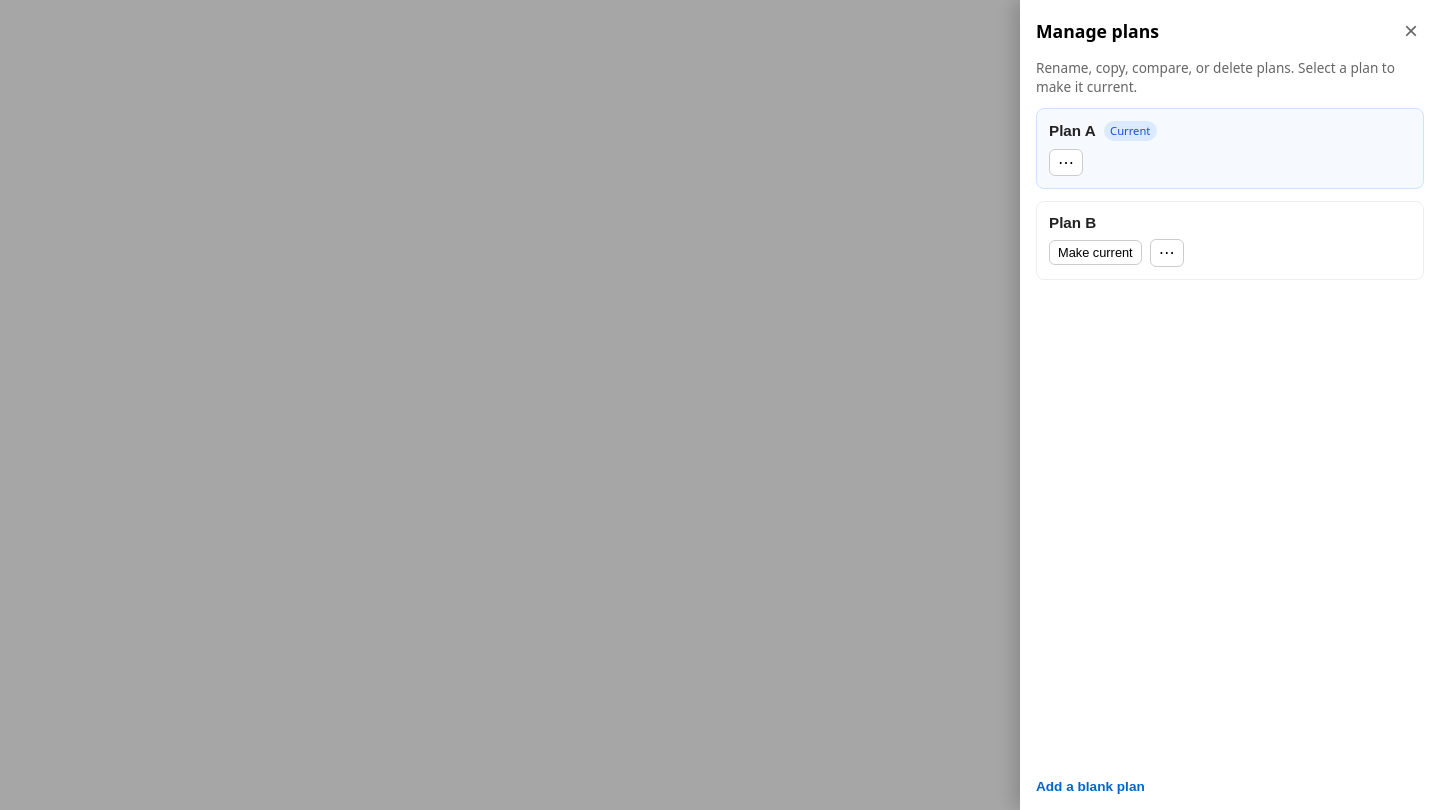
Test: ManagePlansPanel › closes compare controls when cancelled
What coordinates should you click on to do the following:
click the button named "plan actions for plan a"
I would click on:
 (1066, 162)
Its box is [1049,149,1083,176].
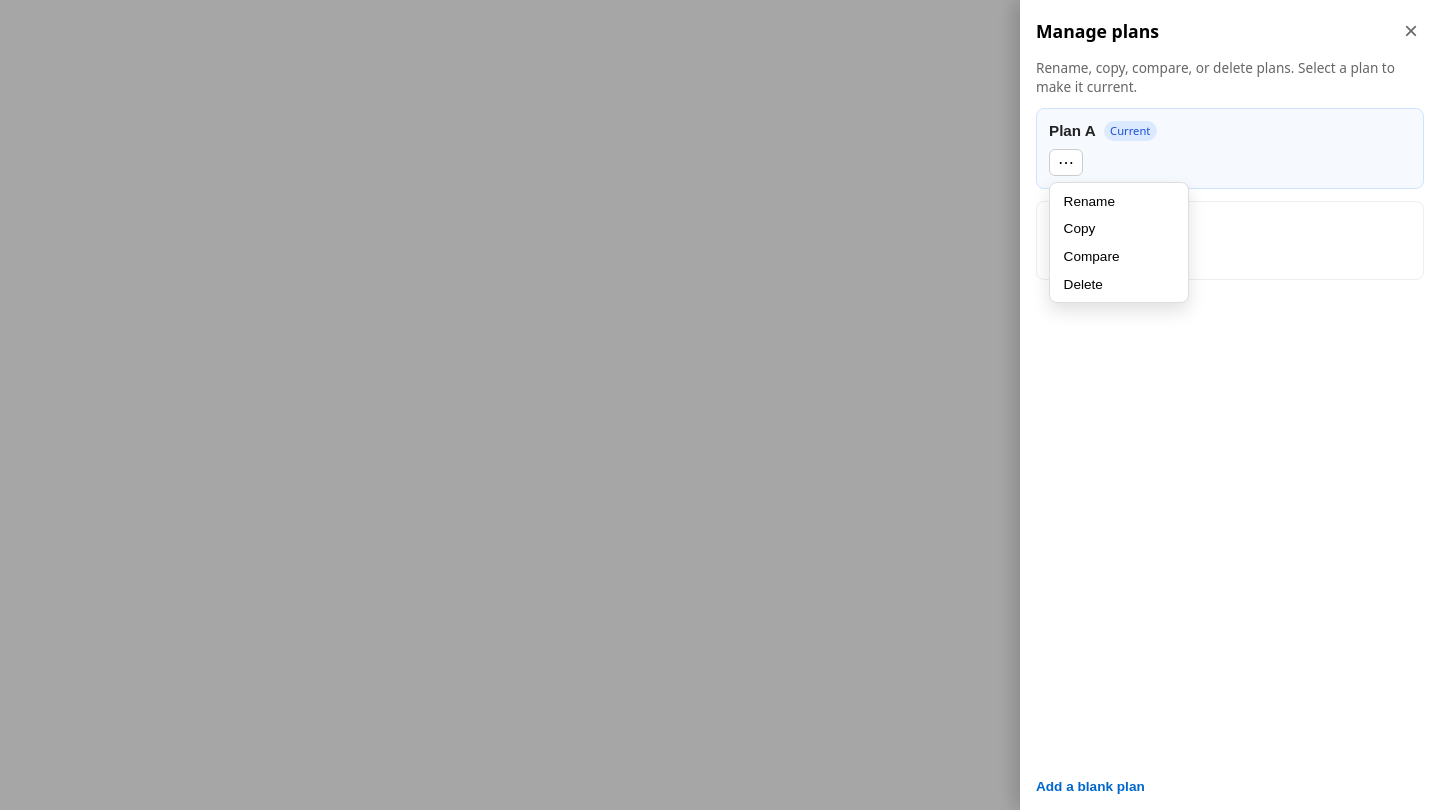
What coordinates should you click on to do the following:
click the menu item "Compare"
I would click on:
 (1119, 257)
Its box is [1054,243,1184,270].
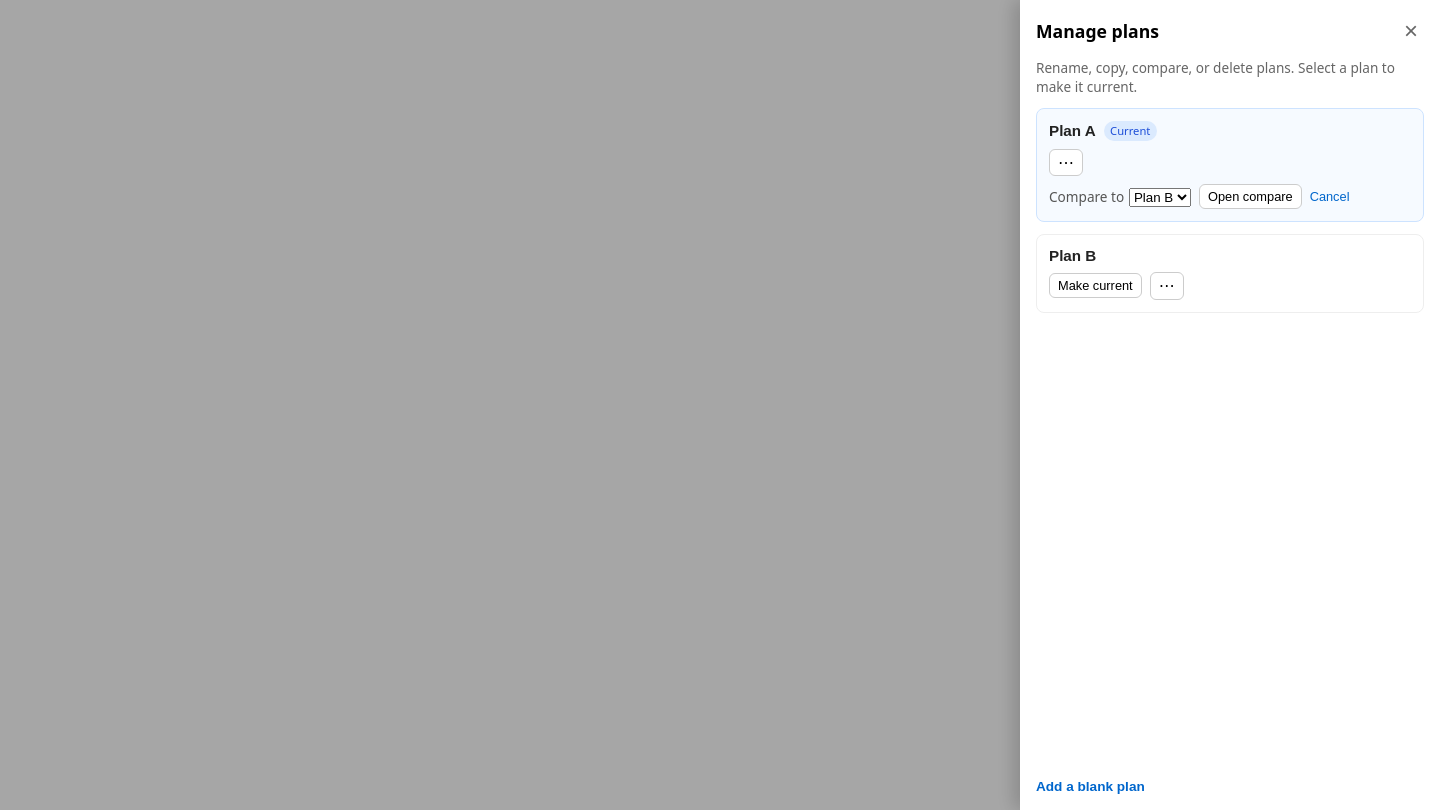
Result: the text "Compare to" is shown at [1049,187,1191,207]
What coordinates should you click on to do the following:
click the button "Cancel"
I would click on:
 (1330, 197)
Its box is [1310,189,1349,204].
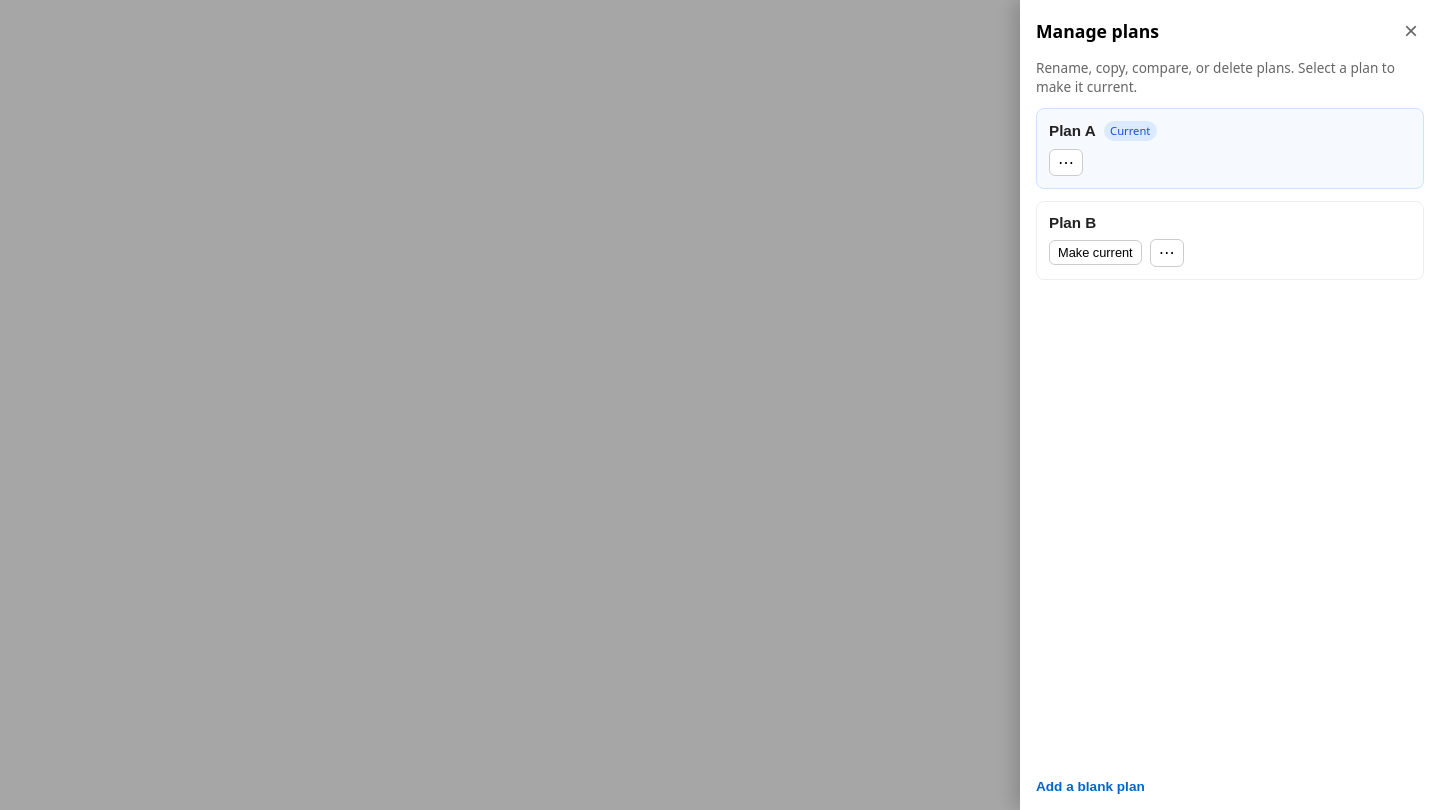
Result: the text "Compare to" is gone
